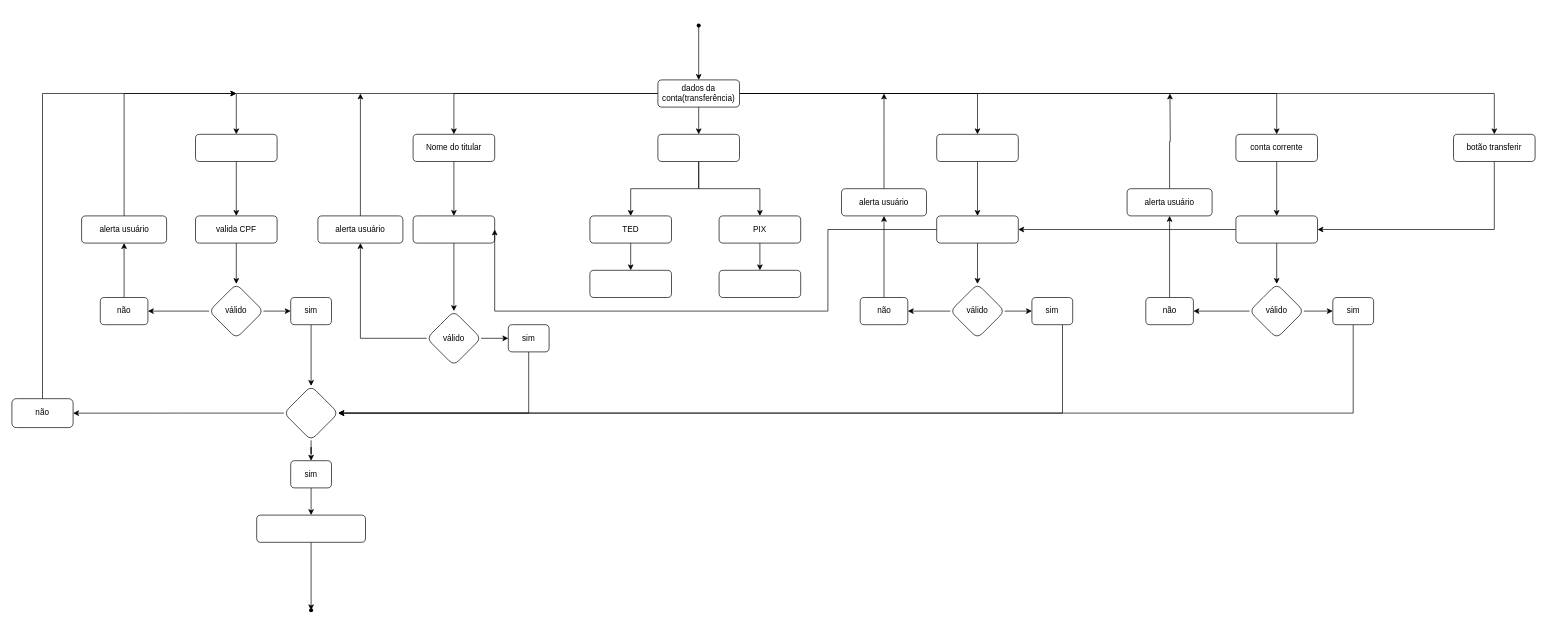
This 1547x636 diagram has some shape labels left out. The shapes that lost their labels are listed below. From the top down, each one's centre as x and y in pixels, then its label:
the point at 236,148: CPF
the point at 698,148: Tipo
the point at 977,148: agência
the point at 453,229: valida(apenas texto)
the point at 977,229: valida(apenas número)
the point at 1276,229: valida (apenas número)
the point at 630,284: gurada estado
the point at 759,284: guarda estado
the point at 310,412: são todos válidos
the point at 311,528: página você transferiu
